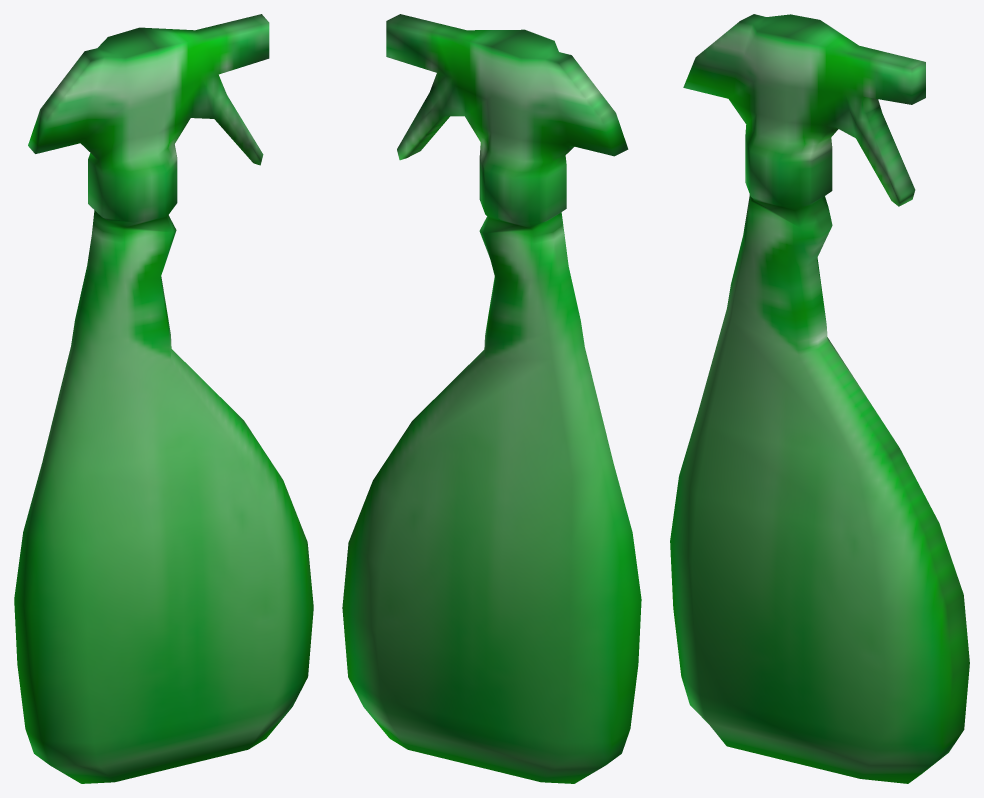
The model's file is Cleaning_spray.fbx.
The picture shows the model from 3 angles, left to right: view 1: azimuth 30°, elevation 25°; view 2: azimuth 150°, elevation 25°; view 3: azimuth 330°, elevation 25°; orthographic projection.
Parts seen in each view (by area): view 1: Cleaning_spray; view 2: Cleaning_spray; view 3: Cleaning_spray.
Part boxes in pixels (x1,y1,x2,y2): Cleaning_spray: [14, 14, 313, 783]; Cleaning_spray: [342, 14, 641, 783]; Cleaning_spray: [670, 14, 969, 783].
Bounding box in the file's own units: 0.0415 × 0.1014 × 0.0127.
